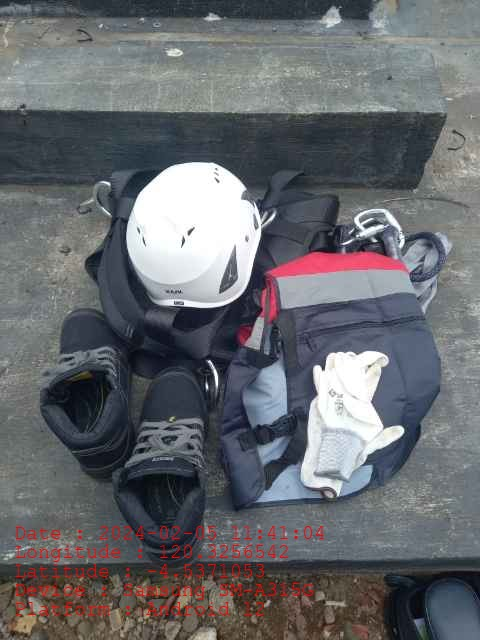HELM: (125, 162, 262, 308)
SARUNG_TANGAN: (299, 350, 404, 498)
